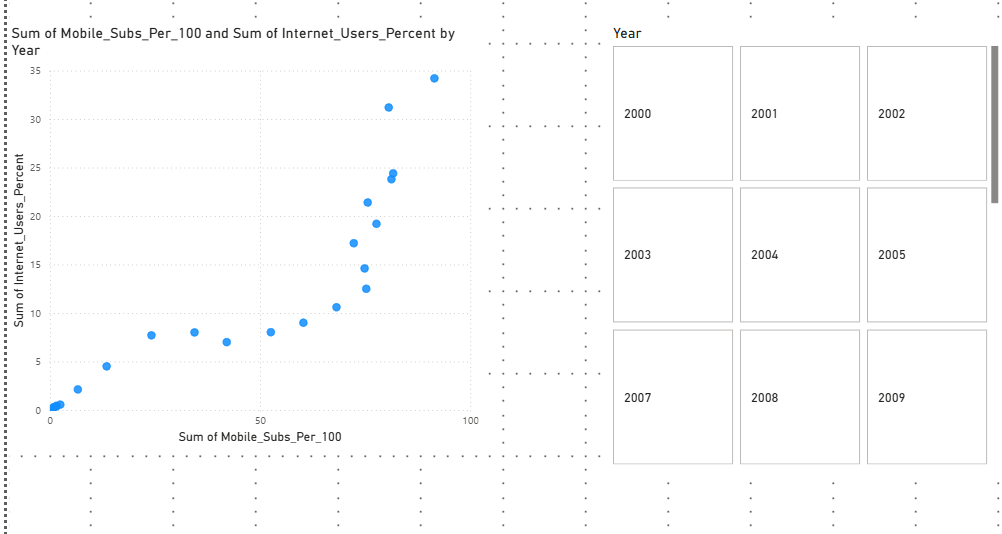

This screenshot's page, from the dashboard's own definition file:
{"tool":"powerbi","page":{"name":"Page 2","canvas":[1280,720],"ordinal":1},"visuals":[{"type":"scatterChart","fields":{"Y":["Sum(rwanda_final_data.Internet_Users_Percent)"],"X":["Sum(rwanda_final_data.Mobile_Subs_Per_100)"],"Category":["rwanda_final_data.Year"]},"box":[0,74.9,547.2,485.8],"z":0},{"type":"advancedSlicerVisual","fields":{"Values":["rwanda_final_data.Year"]},"box":[691.2,74.9,453.1,512.6],"z":1}]}

Visuals, with their boxes on the page's 1280x720 design canvas (x1, y1, x2, y2). These are canvas units, not pixel positions in the 1002x534 screenshot, which may show the page scaled, cropped or inside an application window:
scatterChart - Sum(rwanda_final_data.Internet_Users_Percent) x Sum(rwanda_final_data.Mobile_Subs_Per_100): bbox=[0, 75, 547, 561]
advancedSlicerVisual - rwanda_final_data.Year: bbox=[691, 75, 1144, 588]
